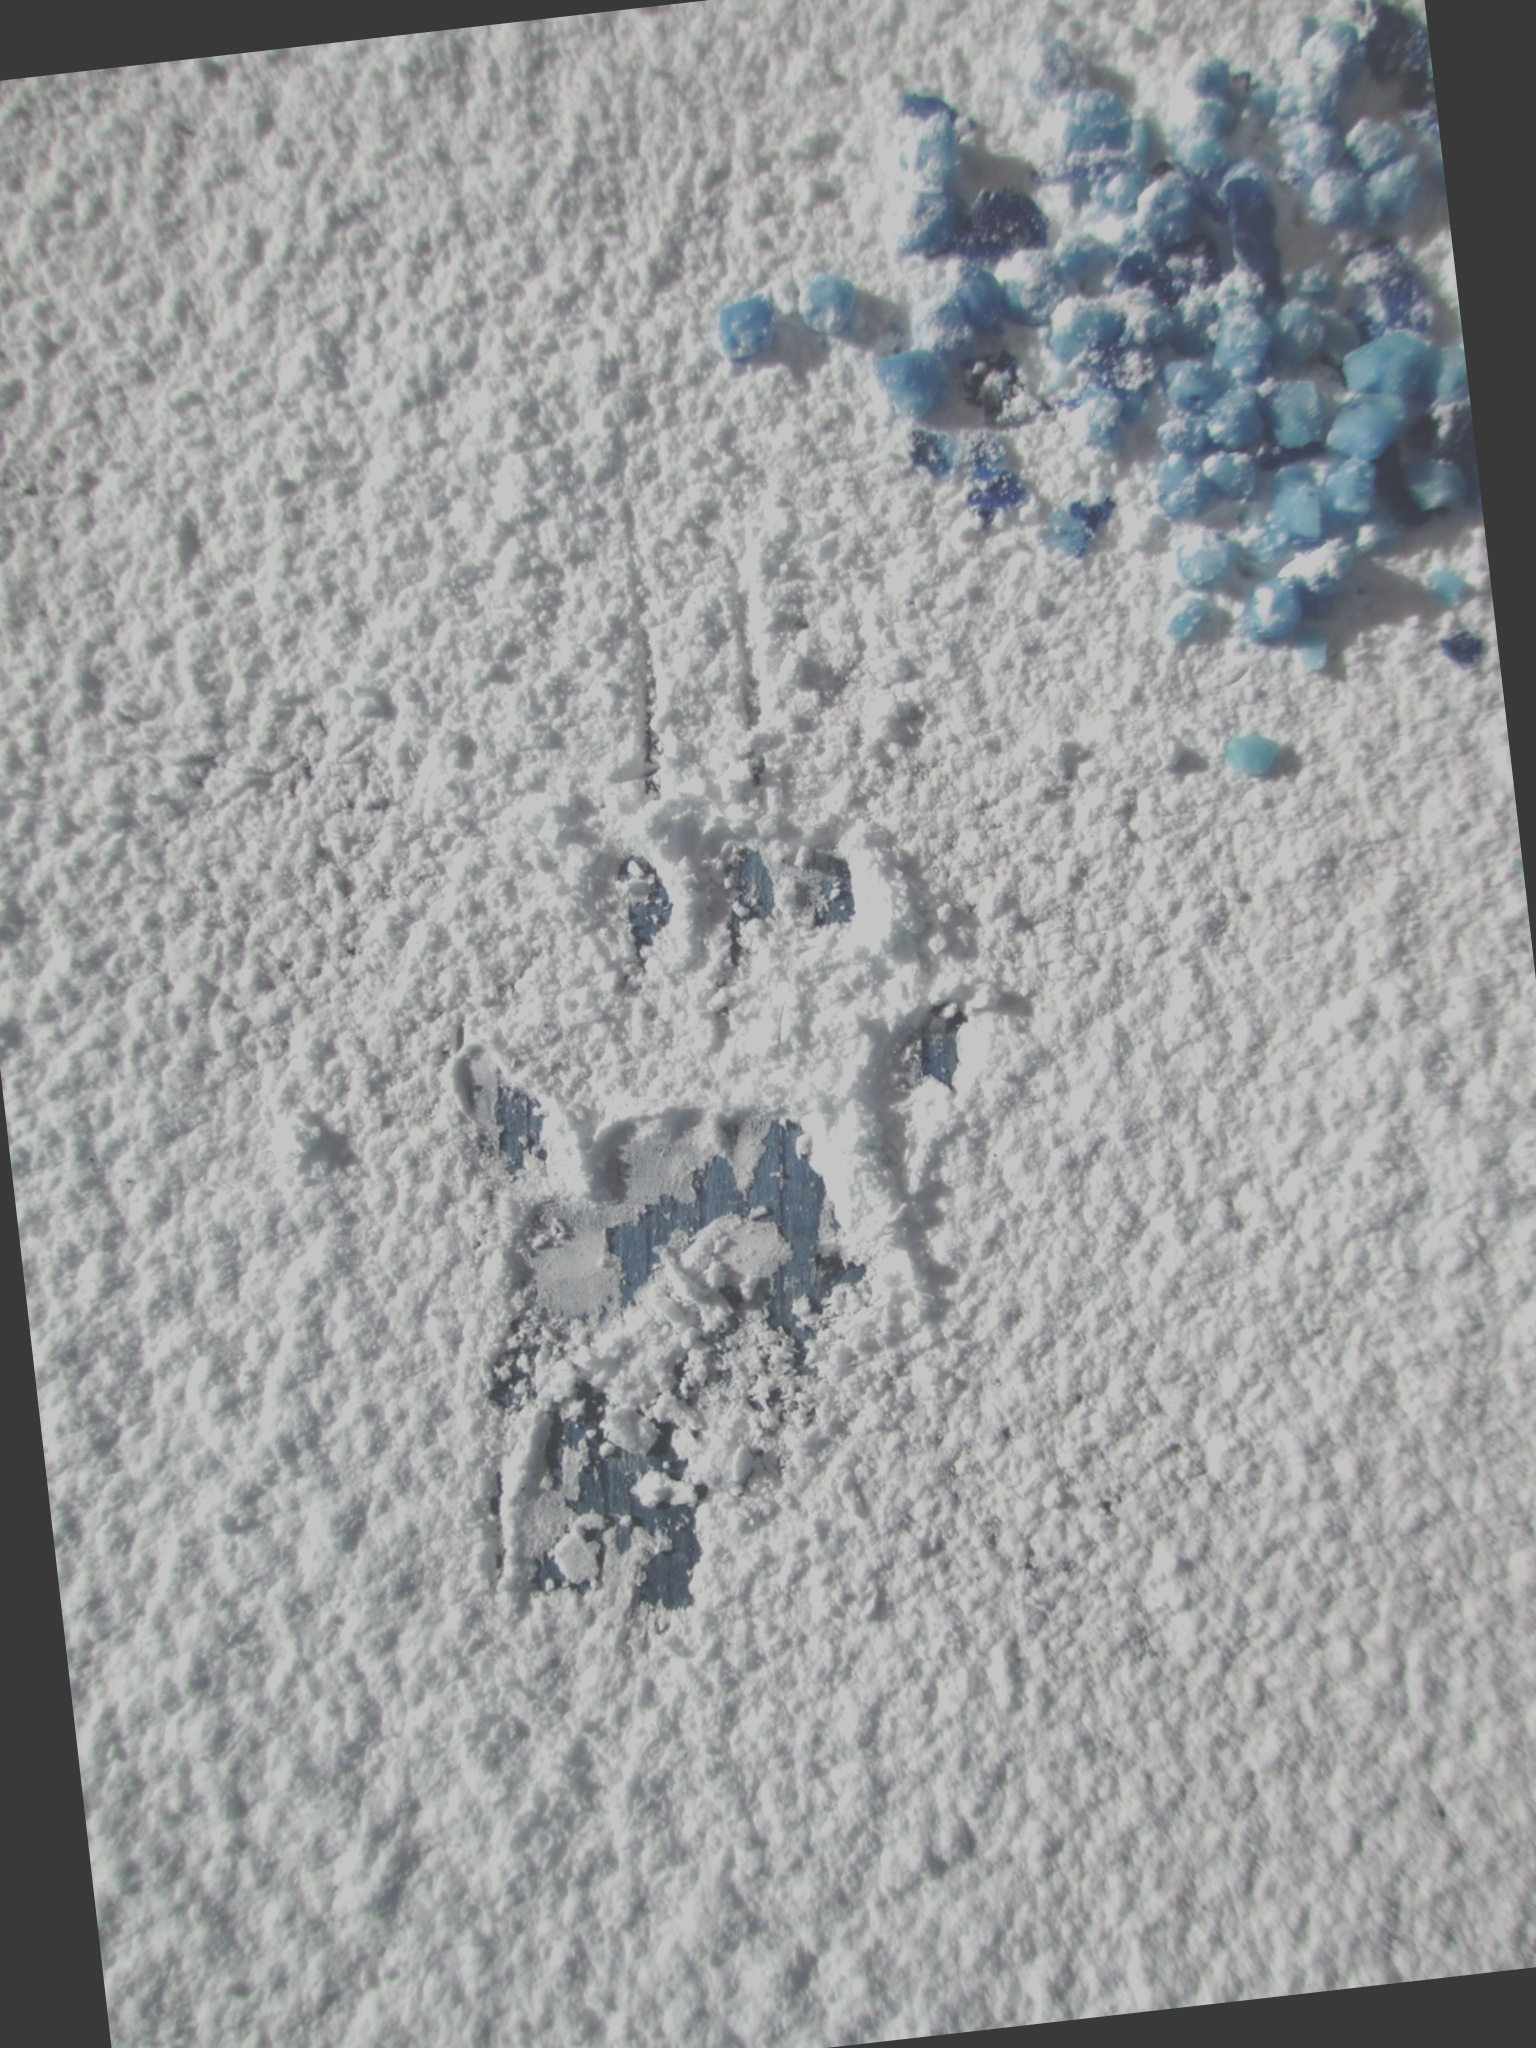loup: (408, 822, 1042, 1311)
